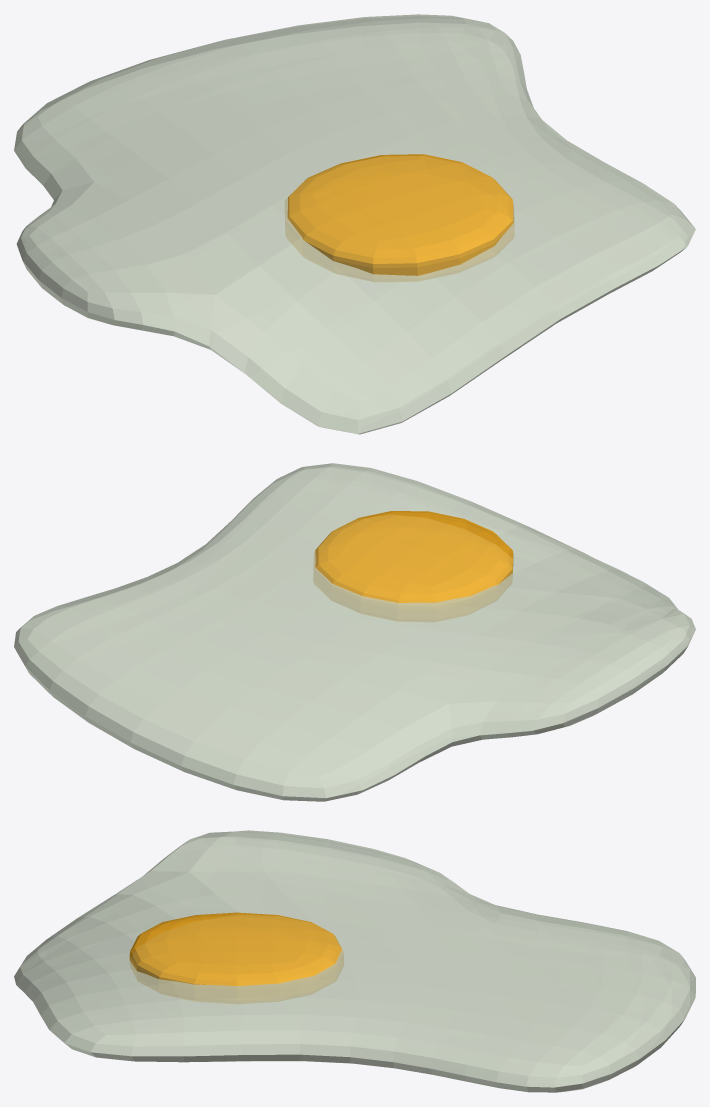
The model's file is game.glb.
The picture shows the model from 3 angles, top to bottom: view 1: azimuth 30°, elevation 25°; view 2: azimuth 150°, elevation 25°; view 3: azimuth 270°, elevation 25°; orthographic projection. The views are drawn at different scales.
Visible parts, largest first — view 1: Cube, Cube.001; view 2: Cube, Cube.001; view 3: Cube, Cube.001.
Boxes of the visible parts, x1,y1,x2,y2 form: Cube: [14, 14, 695, 434]; Cube.001: [285, 154, 513, 281]; Cube: [14, 463, 695, 801]; Cube.001: [314, 511, 513, 621]; Cube: [14, 830, 695, 1092]; Cube.001: [129, 912, 343, 1003].
Size of the model in its own units: 9.71 by 1.79 by 10.97.
